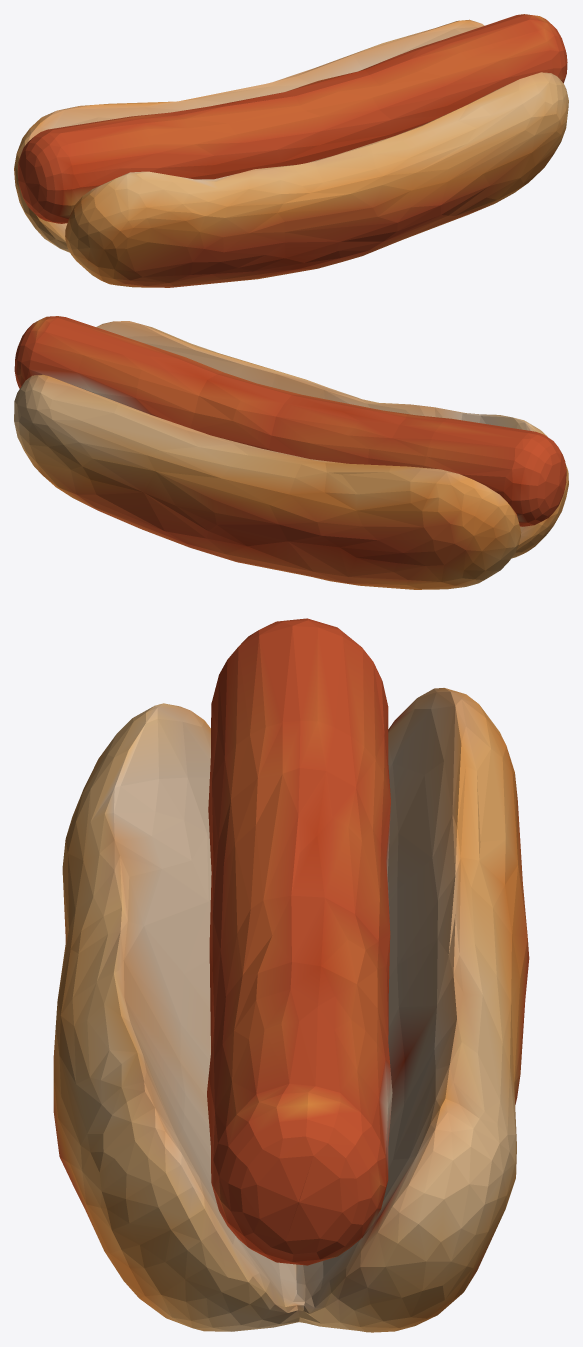
Rendered from hotdog.glb.
3 views of the same model, one above another, from view 1: azimuth 30°, elevation 25°; view 2: azimuth 150°, elevation 25°; view 3: azimuth 270°, elevation 25° (orthographic). The views are drawn at different scales.
Visible parts, largest first — view 1: geometry_0; view 2: geometry_0; view 3: geometry_0.
Boxes of the visible parts, x1=… form: geometry_0: x1=14, y1=14, x2=568, y2=287; geometry_0: x1=14, y1=316, x2=568, y2=589; geometry_0: x1=53, y1=618, x2=529, y2=1332.
Size of the model in its own units: 1.22 by 0.3757 by 0.4698.
